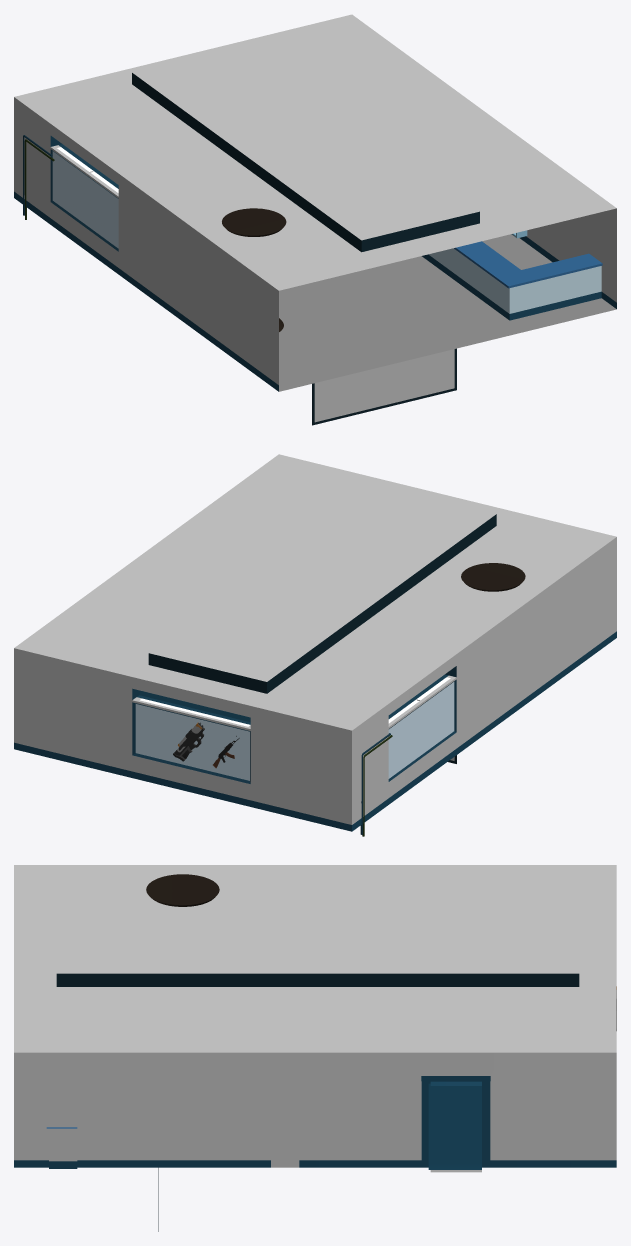
File: lab2_0.glb
3 renders of one model, top to bottom at view 1: azimuth 30°, elevation 25°; view 2: azimuth 150°, elevation 25°; view 3: azimuth 270°, elevation 25°, orthographic. The views are drawn at different scales.
Visible parts, largest first — view 1: room, while_setiings; view 2: room; view 3: room.
Boxes of the visible parts, x1,y1,x2,y2 form: room: (14, 14, 616, 391); while_setiings: (312, 348, 456, 425); room: (14, 454, 616, 836); room: (14, 865, 616, 1172).
Bounding box in the file's own units: 144 × 85.65 × 190.
9 materials, 1 textured.
